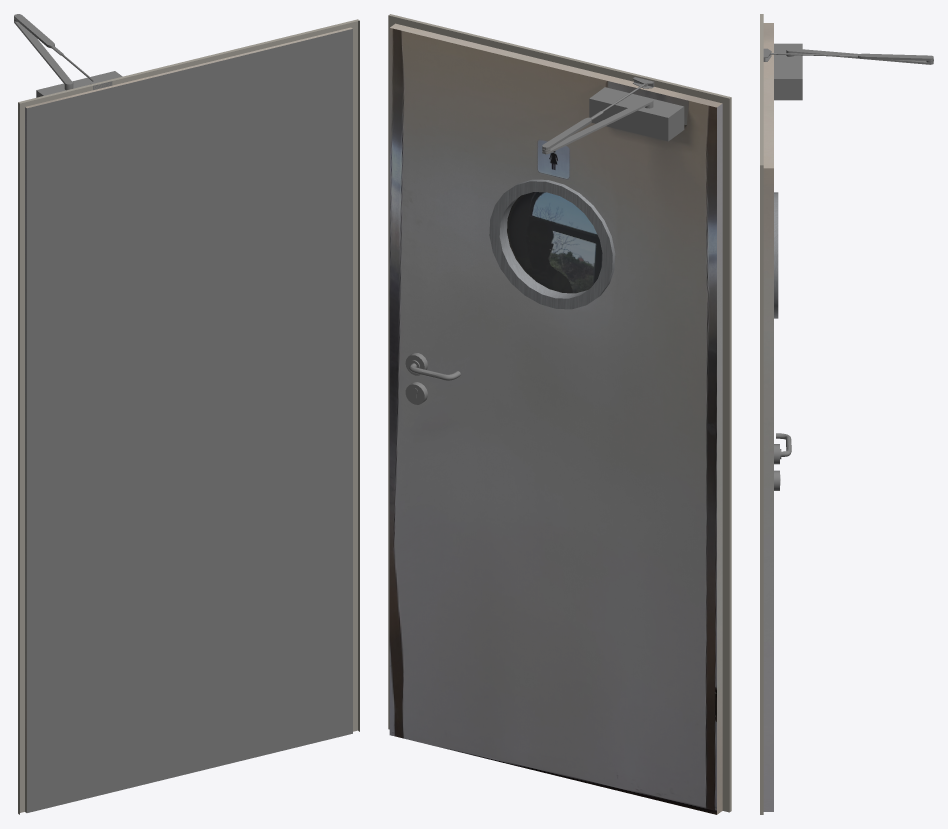
Rendered from wc_door.fbx.
3 views of the same model, side by side, from view 1: azimuth 30°, elevation 25°; view 2: azimuth 150°, elevation 25°; view 3: azimuth 270°, elevation 25° (orthographic). The views are drawn at different scales.
Parts seen in each view (by area): view 1: bathroom door.001; view 2: bathroom door.001; view 3: bathroom door.001.
Boxes of the visible parts, x1,y1,x2,y2 form: bathroom door.001: (14, 14, 359, 814); bathroom door.001: (388, 14, 731, 814); bathroom door.001: (760, 14, 933, 814).
Bounding box in the file's own units: 103 × 206 × 50.07.
4 materials, 2 textured.
